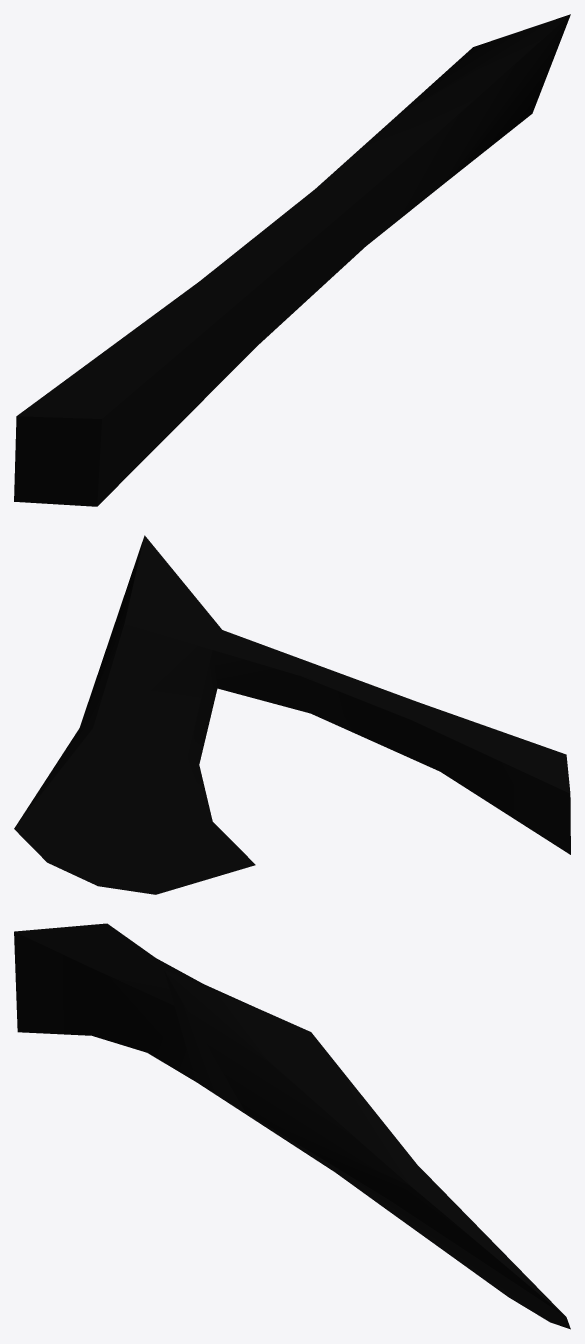
The model's file is MapObject_135.FBX.
3 views of the same model, one above another, from view 1: azimuth 30°, elevation 25°; view 2: azimuth 150°, elevation 25°; view 3: azimuth 270°, elevation 25° (orthographic). The views are drawn at different scales.
Parts seen in each view (by area): view 1: polySurfaceMapGeoMesh299; view 2: polySurfaceMapGeoMesh299; view 3: polySurfaceMapGeoMesh299.
Part boxes in pixels (x1,y1,x2,y2): polySurfaceMapGeoMesh299: (14,14,570,506); polySurfaceMapGeoMesh299: (14,535,570,894); polySurfaceMapGeoMesh299: (14,923,570,1329).
Size of the model in its own units: 74.38 by 43.33 by 51.95.
